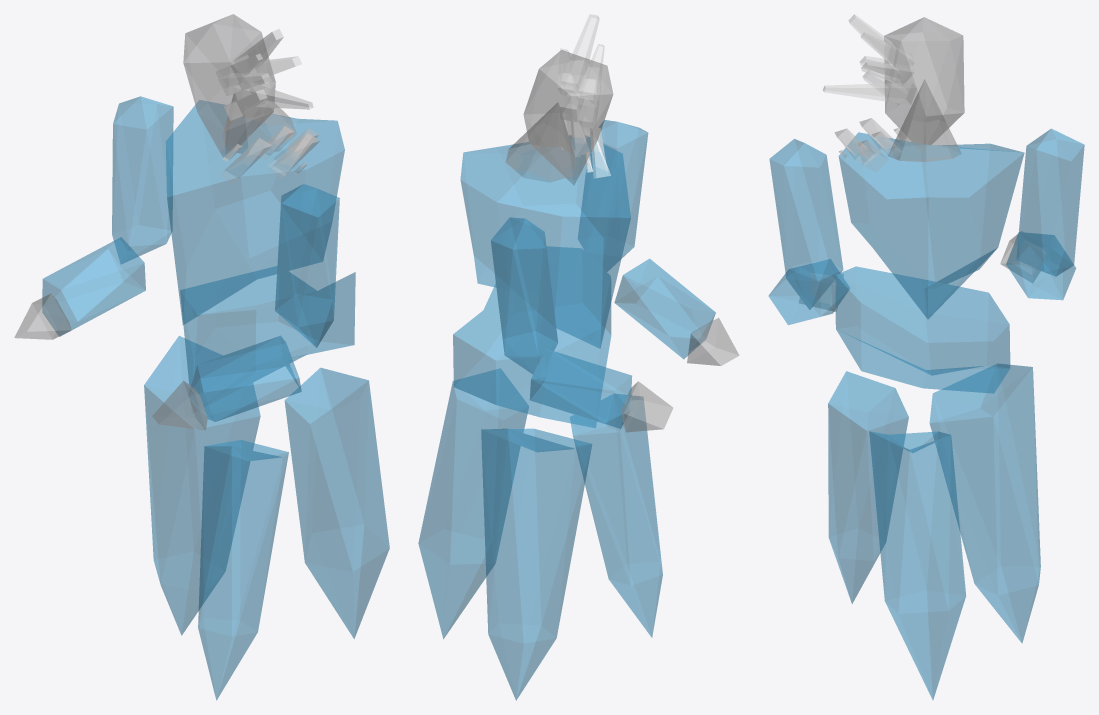
The model's file is ghostDistanceAttack12.obj.
3 views of the same model, side by side, from view 1: azimuth 30°, elevation 25°; view 2: azimuth 150°, elevation 25°; view 3: azimuth 270°, elevation 25° (orthographic). The views are drawn at different scales.
Parts seen in each view (by area): view 1: Cube.001_Cube.007, Icosphere.020, Icosphere.019, Cube_Cube.007, Icosphere.018, Icosphere.007_Icosphere.006, Icosphere.003_Icosphere.007, Icosphere.005_Icosphere.007, Icosphere.006_Icosphere.006, Icosphere.008_Icosphere.006, Cone_Cone.007, Cube.002_Cube.007 (+8 smaller); view 2: Cube.001_Cube.007, Icosphere.020, Cube_Cube.007, Icosphere.019, Icosphere.018, Icosphere.003_Icosphere.007, Icosphere.007_Icosphere.006, Icosphere.005_Icosphere.007, Icosphere.006_Icosphere.006, Icosphere.008_Icosphere.006, Cone_Cone.007, Cube.003_Cube.007 (+4 smaller); view 3: Cube.001_Cube.007, Icosphere.020, Icosphere.019, Cube_Cube.007, Icosphere.018, Icosphere.005_Icosphere.007, Icosphere.003_Icosphere.007, Icosphere.007_Icosphere.006, Cone_Cone.007, Icosphere.008_Icosphere.006, Icosphere.006_Icosphere.006, Cube.007_Cube.006 (+5 smaller).
Boxes of the visible parts, bbox=[...] form: Cube.001_Cube.007: bbox=[165, 100, 344, 324]; Icosphere.020: bbox=[144, 336, 260, 635]; Icosphere.019: bbox=[284, 368, 389, 638]; Cube_Cube.007: bbox=[180, 266, 355, 413]; Icosphere.018: bbox=[198, 440, 288, 700]; Icosphere.007_Icosphere.006: bbox=[112, 96, 173, 263]; Icosphere.003_Icosphere.007: bbox=[183, 14, 275, 157]; Icosphere.005_Icosphere.007: bbox=[275, 184, 339, 347]; Icosphere.006_Icosphere.006: bbox=[188, 335, 301, 421]; Icosphere.008_Icosphere.006: bbox=[42, 237, 145, 336]; Cone_Cone.007: bbox=[223, 94, 296, 153]; Cube.002_Cube.007: bbox=[152, 381, 207, 430]; Cube.001_Cube.007: bbox=[460, 135, 630, 348]; Icosphere.020: bbox=[481, 428, 592, 700]; Cube_Cube.007: bbox=[453, 246, 611, 428]; Icosphere.019: bbox=[418, 368, 528, 638]; Icosphere.018: bbox=[570, 394, 662, 637]; Icosphere.003_Icosphere.007: bbox=[523, 50, 613, 185]; Icosphere.007_Icosphere.006: bbox=[491, 217, 557, 378]; Icosphere.005_Icosphere.007: bbox=[578, 120, 648, 271]; Icosphere.006_Icosphere.006: bbox=[614, 258, 715, 359]; Icosphere.008_Icosphere.006: bbox=[529, 349, 631, 428]; Cone_Cone.007: bbox=[506, 102, 574, 182]; Cube.003_Cube.007: bbox=[621, 381, 672, 432]; Cube.001_Cube.007: bbox=[838, 132, 1024, 319]; Icosphere.020: bbox=[929, 364, 1040, 642]; Icosphere.019: bbox=[869, 431, 965, 699]; Cube_Cube.007: bbox=[835, 266, 1010, 393]; Icosphere.018: bbox=[828, 371, 908, 603]; Icosphere.005_Icosphere.007: bbox=[769, 139, 843, 309]; Icosphere.003_Icosphere.007: bbox=[884, 17, 964, 144]; Icosphere.007_Icosphere.006: bbox=[1016, 128, 1084, 276]; Cone_Cone.007: bbox=[888, 79, 961, 161]; Icosphere.008_Icosphere.006: bbox=[1006, 232, 1075, 300]; Icosphere.006_Icosphere.006: bbox=[768, 259, 849, 324]; Cube.007_Cube.006: bbox=[823, 83, 916, 104].
Size of the model in its own units: 21.83 by 45.52 by 20.69.
